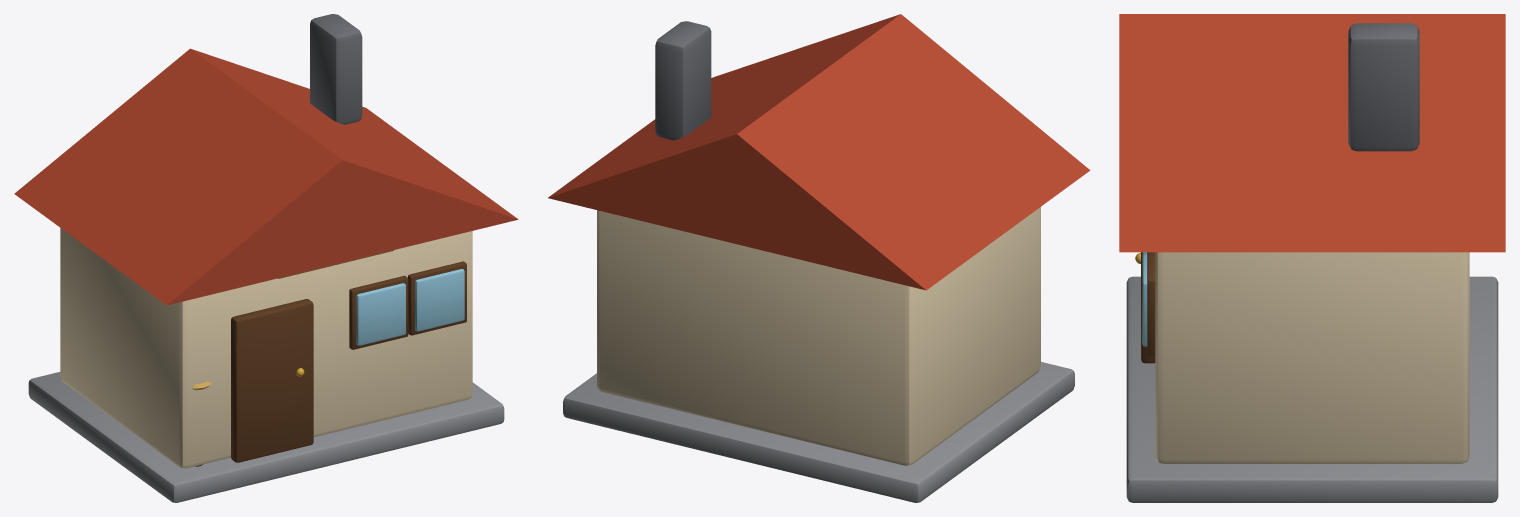
Rendered from HarborHut.fbx.
The picture shows the model from 3 angles, left to right: view 1: azimuth 30°, elevation 25°; view 2: azimuth 150°, elevation 25°; view 3: azimuth 270°, elevation 25°; orthographic projection. The views are drawn at different scales.
Parts seen in each view (by area): view 1: HarborHut; view 2: HarborHut; view 3: HarborHut.
Boxes of the visible parts, box(x1,y1,x2,y2) form: HarborHut: box(14, 14, 518, 502); HarborHut: box(548, 14, 1090, 502); HarborHut: box(1119, 14, 1505, 502).
Bounding box in the file's own units: 3.6 × 3.35 × 2.7.
